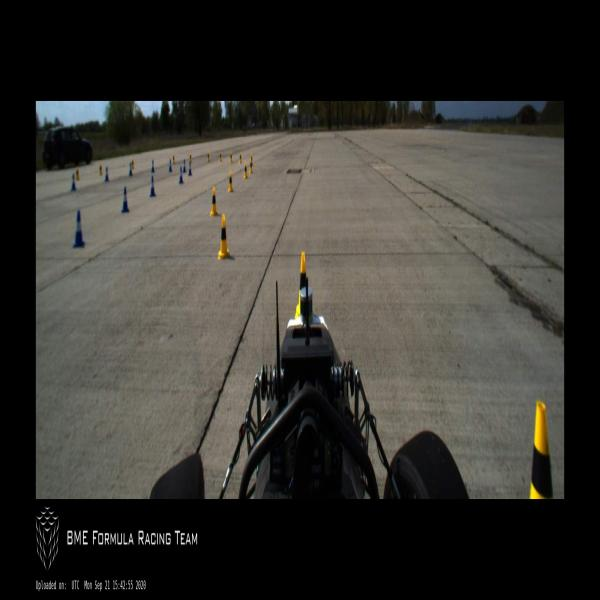blue_cone: (73, 210, 85, 249), (121, 186, 129, 212), (150, 175, 156, 197), (71, 173, 76, 190), (179, 166, 183, 184), (128, 162, 132, 177), (104, 167, 108, 182), (188, 162, 192, 176), (168, 158, 172, 172), (151, 159, 155, 173), (183, 159, 186, 173)
yellow_cone: (529, 401, 554, 498), (295, 251, 306, 317), (217, 214, 230, 260), (210, 188, 218, 216), (228, 170, 234, 193), (243, 161, 248, 179), (249, 159, 253, 173), (76, 166, 80, 180), (218, 150, 222, 162), (250, 151, 253, 166), (239, 150, 242, 164), (99, 163, 102, 176), (189, 151, 192, 163), (207, 151, 210, 162), (172, 153, 175, 164), (131, 158, 134, 169), (230, 150, 232, 163)
